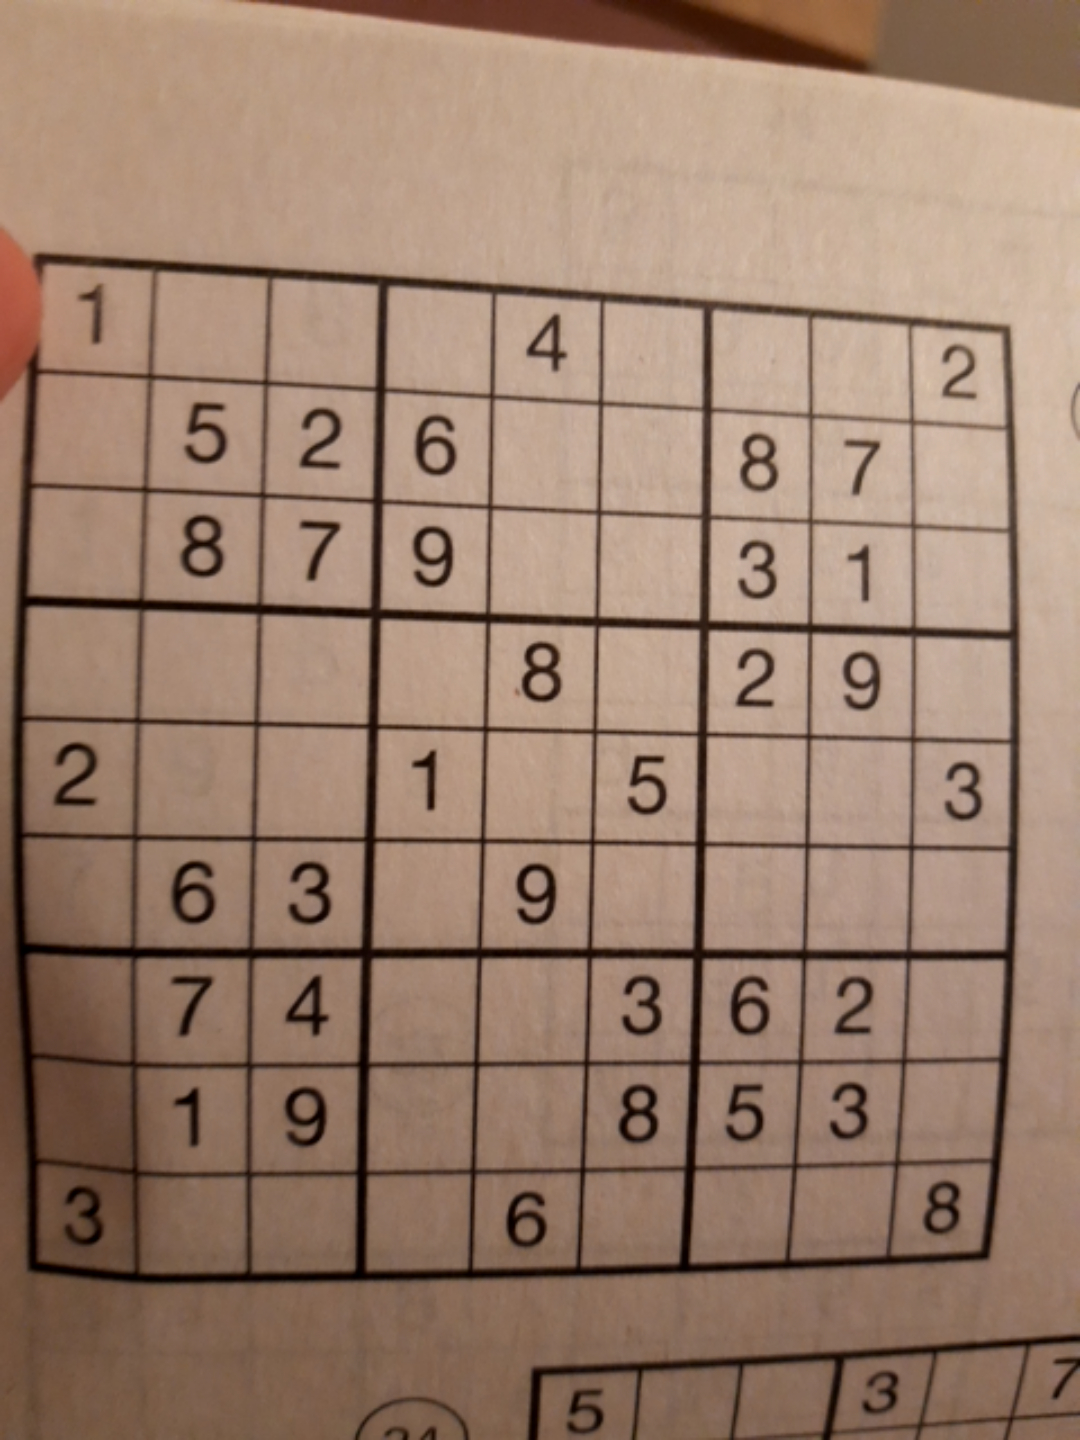sudoku: (19, 251, 1016, 1276)
